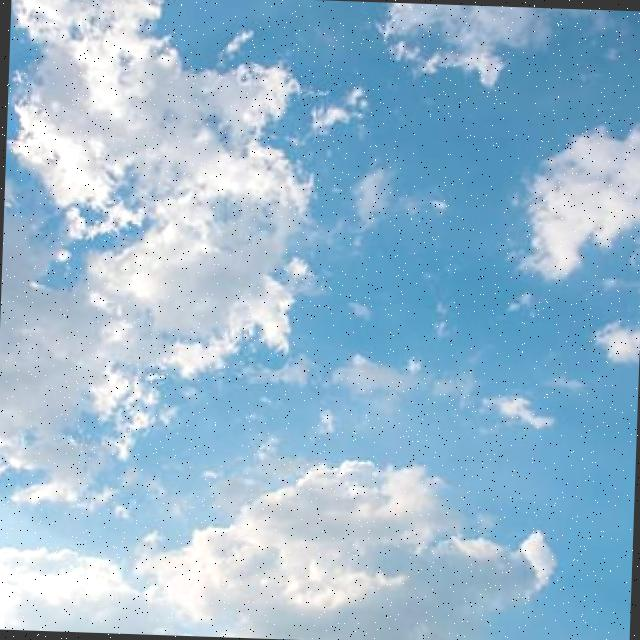Ns: (1, 1, 640, 634)
